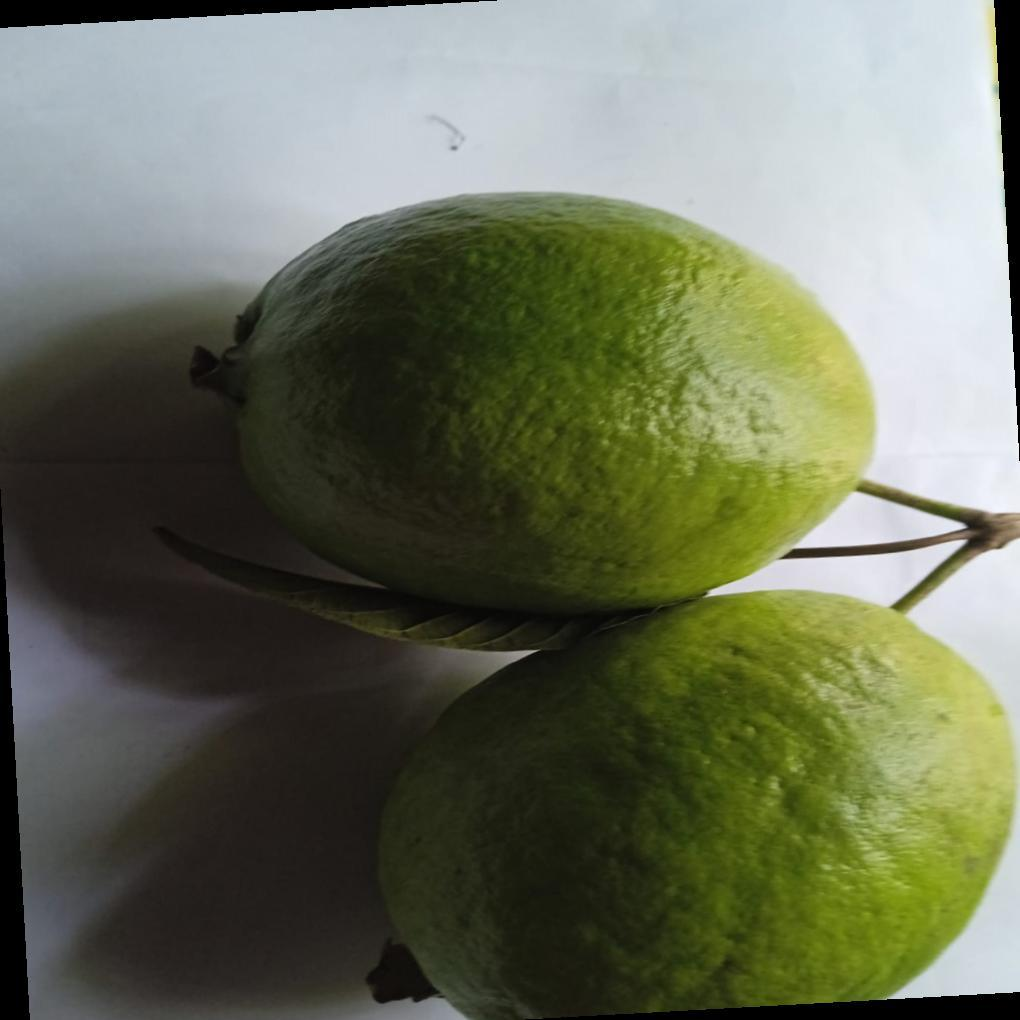FreshGuava: (189, 192, 1020, 1020)
